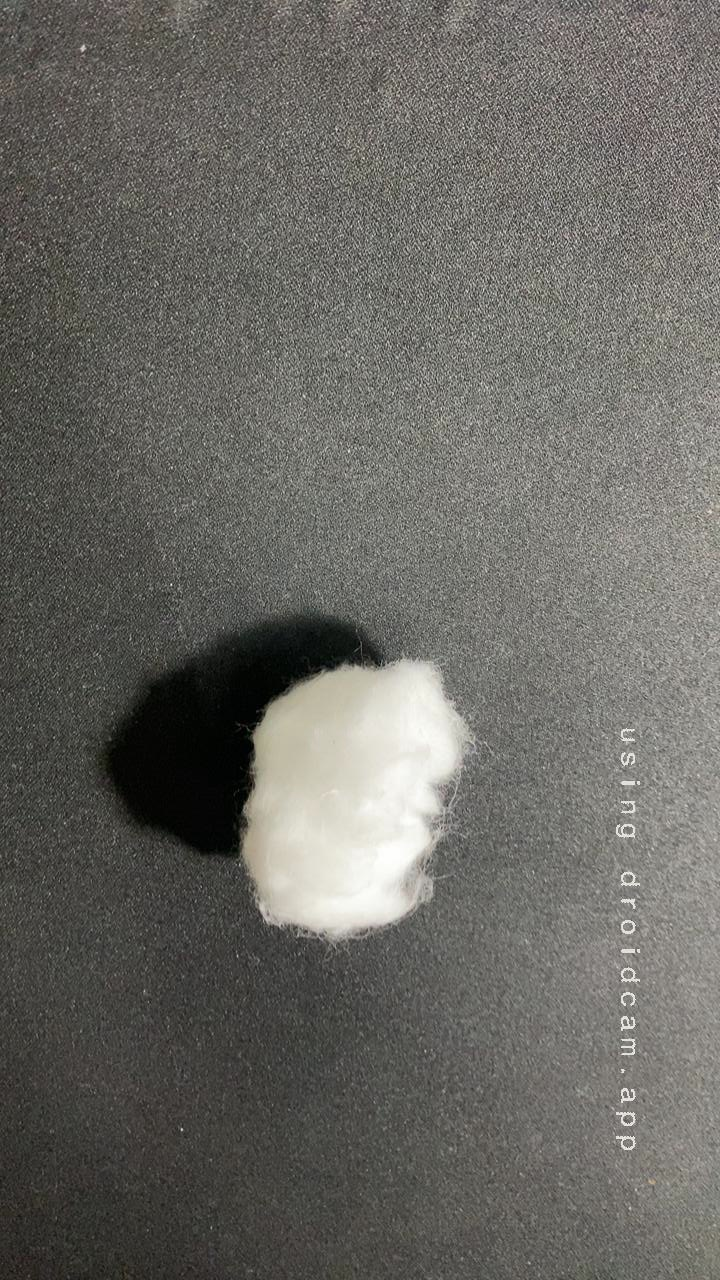cotton: (202, 628, 505, 968)
